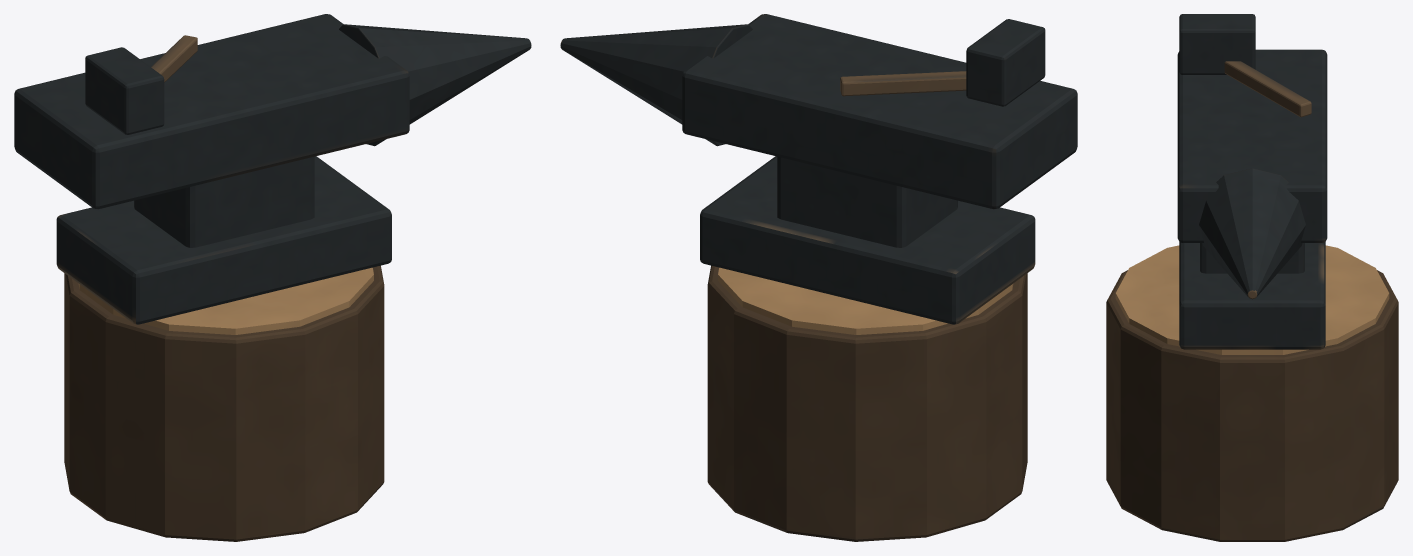
File: Anvil.fbx
3 views of the same model, side by side, from view 1: azimuth 30°, elevation 25°; view 2: azimuth 150°, elevation 25°; view 3: azimuth 270°, elevation 25° (orthographic). The views are drawn at different scales.
Parts seen in each view (by area): view 1: Anvil.001; view 2: Anvil.001; view 3: Anvil.001.
Part boxes in pixels (bbox=[...]): Anvil.001: bbox=[14, 14, 531, 541]; Anvil.001: bbox=[560, 14, 1077, 541]; Anvil.001: bbox=[1106, 14, 1398, 541].
Bounding box in the file's own units: 1.56 × 1.42 × 0.92.
